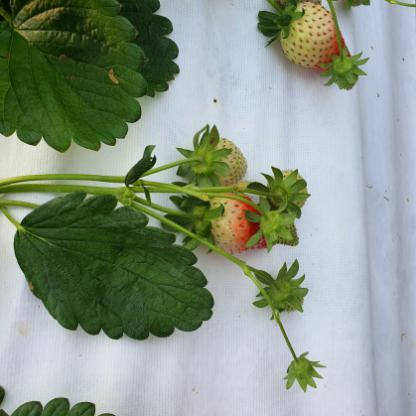Strawberry_Powdery_Mildew_Fruit: (206, 194, 264, 254)
